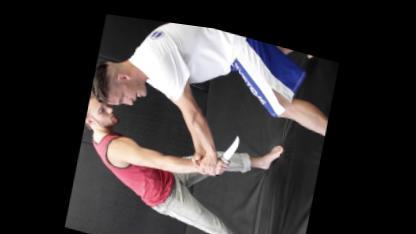knife: (214, 122, 244, 176)
